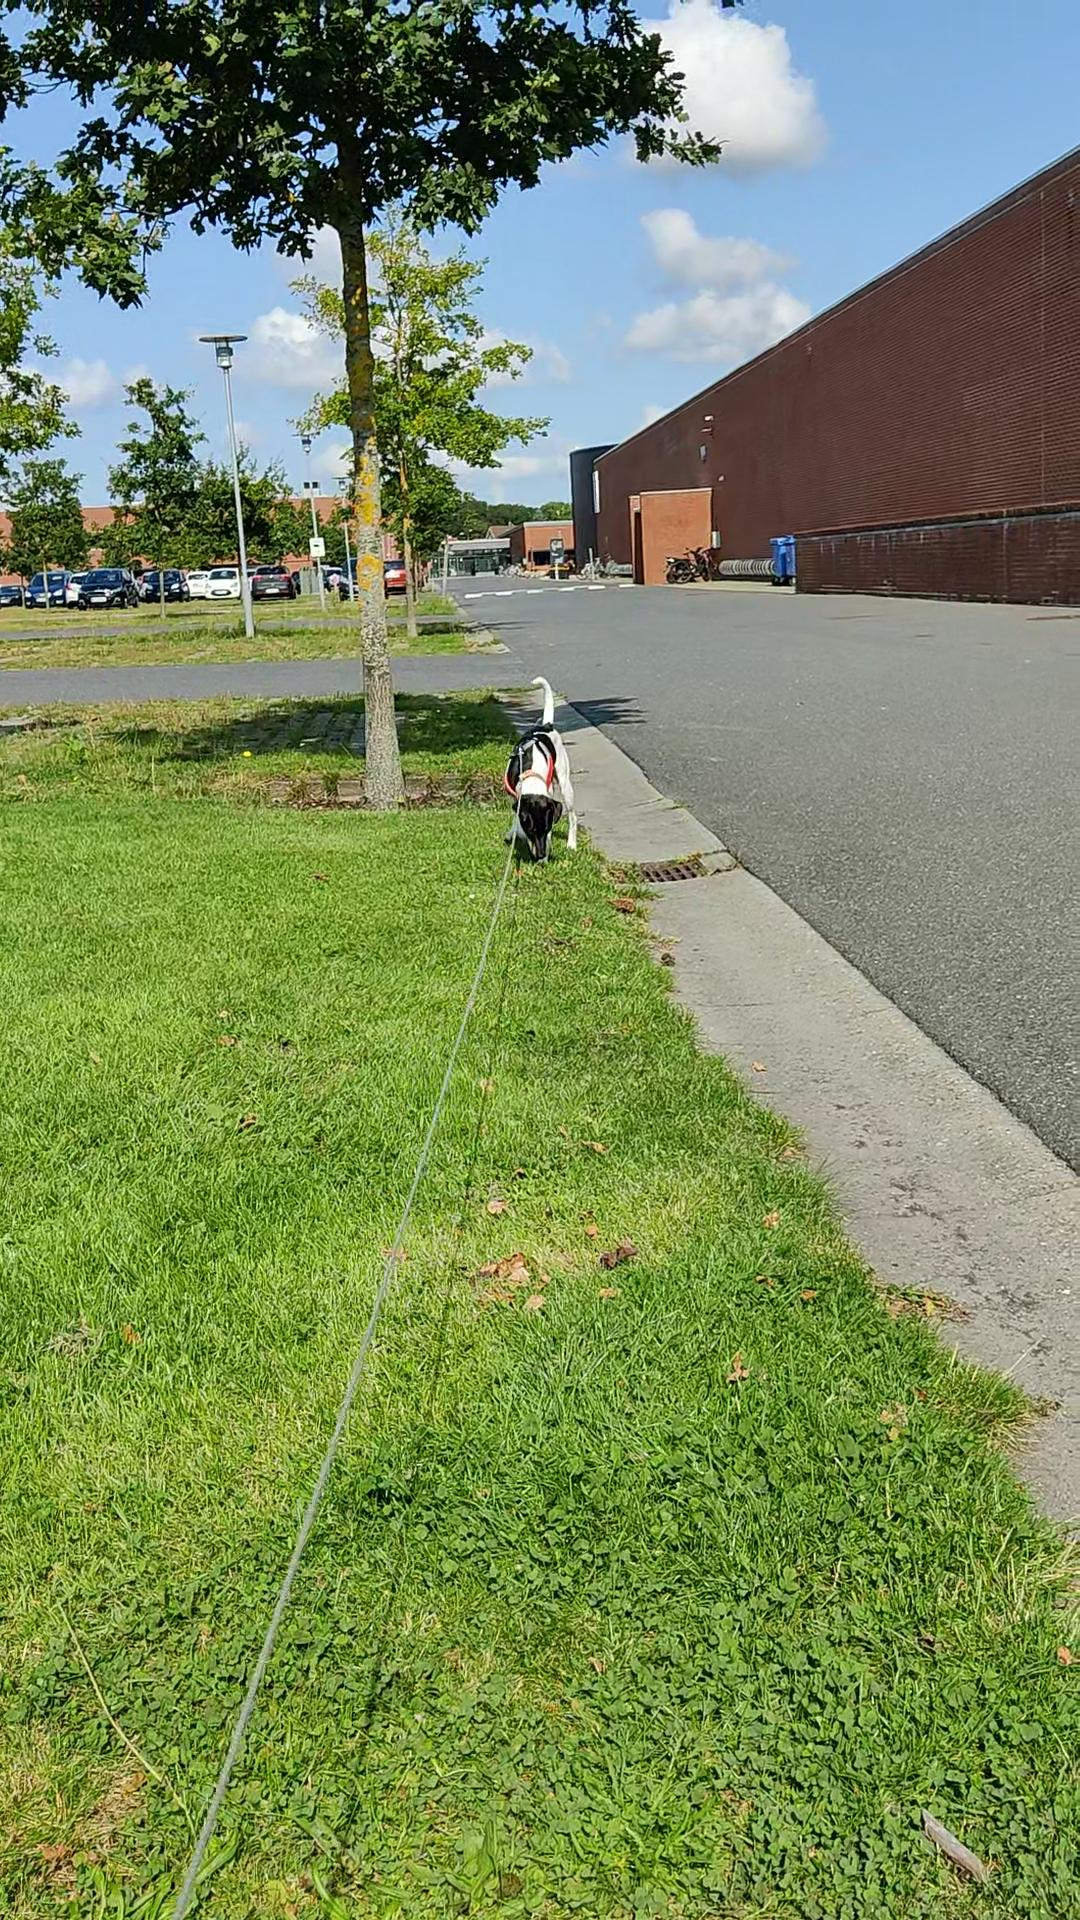Dog: (496, 671, 583, 868)
